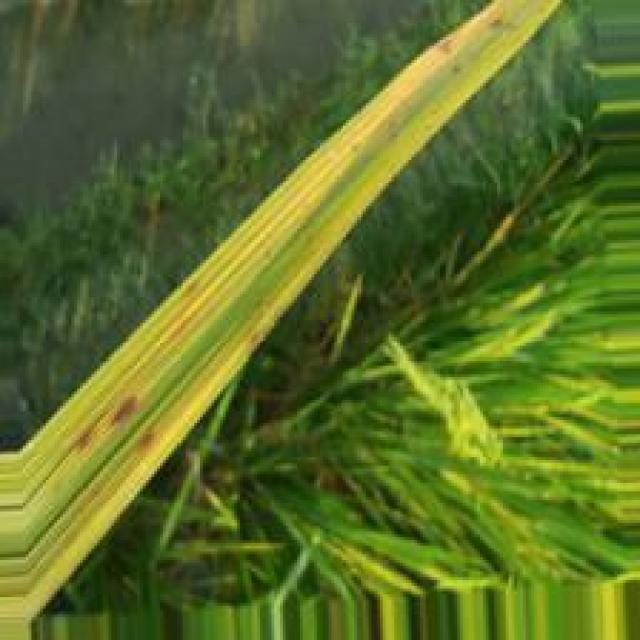Brown_Spot: (107, 389, 147, 429), (131, 425, 168, 459), (75, 424, 101, 458)
